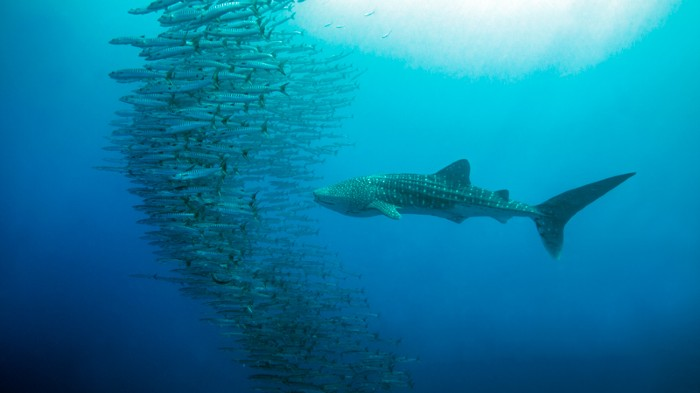shark: (308, 154, 645, 257)
